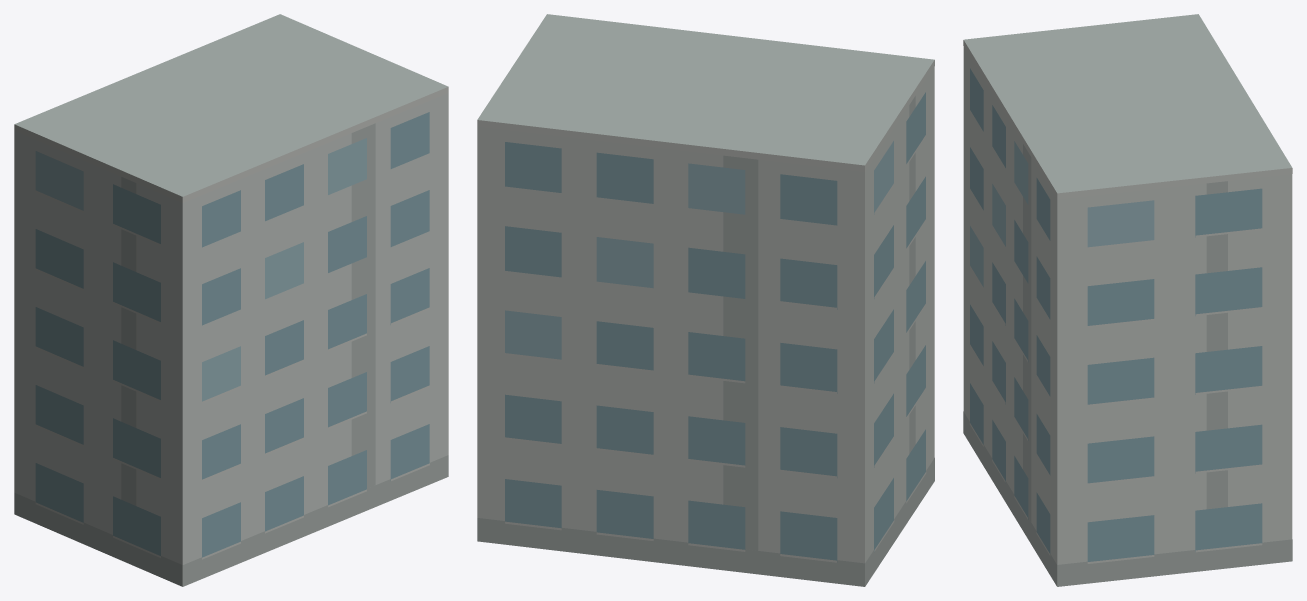
File: residential-e97560f4-5252-41da-b2b0-fbb83aaa155d.glb
3 renders of one model, left to right at view 1: azimuth 30°, elevation 25°; view 2: azimuth 150°, elevation 25°; view 3: azimuth 270°, elevation 25°, orthographic. The views are drawn at different scales.
Parts seen in each view (by area): view 1: residential-e97560f4-5252-41da-b2b0-fbb83aaa155d.tmp; view 2: residential-e97560f4-5252-41da-b2b0-fbb83aaa155d.tmp; view 3: residential-e97560f4-5252-41da-b2b0-fbb83aaa155d.tmp.
Boxes of the visible parts, bbox=[...] form: residential-e97560f4-5252-41da-b2b0-fbb83aaa155d.tmp: bbox=[14, 14, 448, 586]; residential-e97560f4-5252-41da-b2b0-fbb83aaa155d.tmp: bbox=[477, 14, 934, 586]; residential-e97560f4-5252-41da-b2b0-fbb83aaa155d.tmp: bbox=[963, 14, 1292, 586].
Size of the model in its own units: 14.92 by 15.25 by 11.57.
